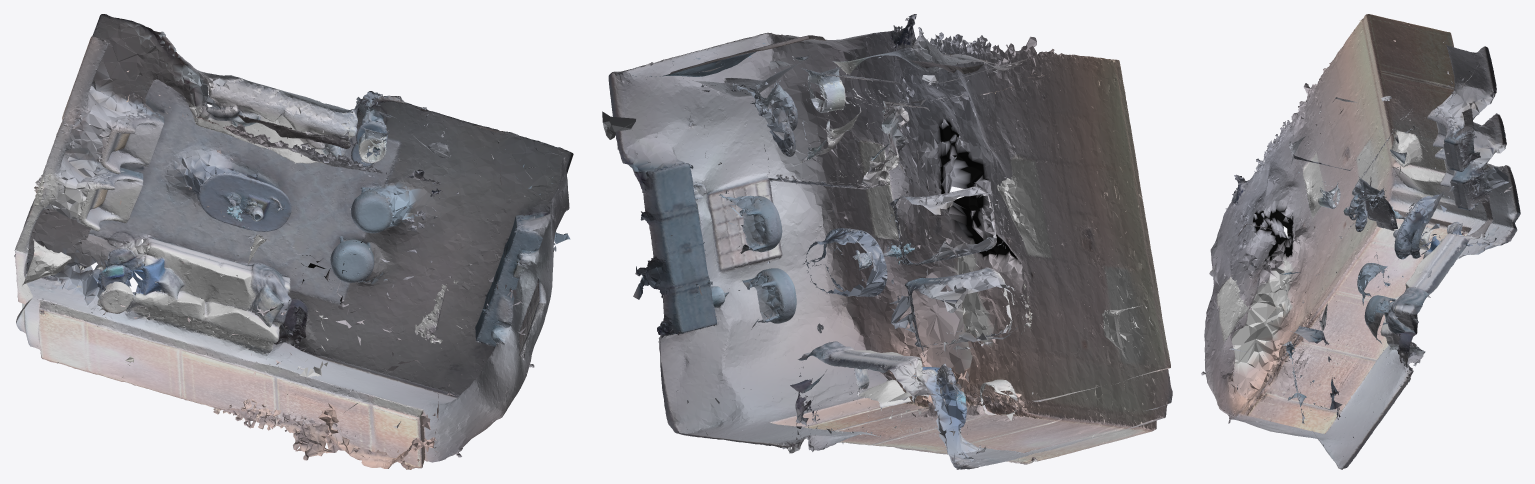
File: milo.glb
3 renders of one model, left to right at view 1: azimuth 30°, elevation 25°; view 2: azimuth 150°, elevation 25°; view 3: azimuth 270°, elevation 25°, orthographic. The views are drawn at different scales.
Visible parts, largest first — view 1: geometry_0; view 2: geometry_0; view 3: geometry_0.
Boxes of the visible parts, bbox=[...] form: geometry_0: bbox=[14, 14, 573, 469]; geometry_0: bbox=[602, 14, 1172, 469]; geometry_0: bbox=[1201, 14, 1520, 469].
Bounding box in the file's own units: 57.15 × 43.13 × 39.57.
